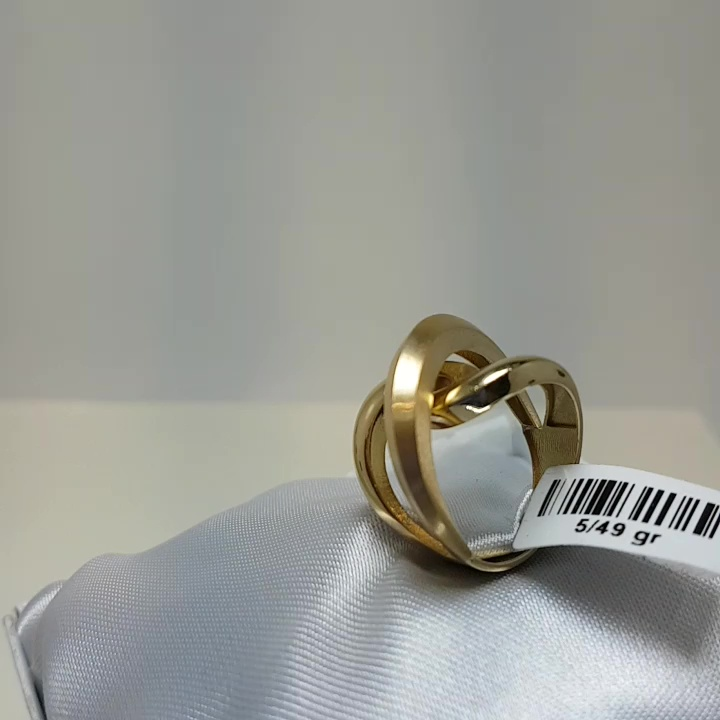Ring 3: (317, 294, 607, 604)
